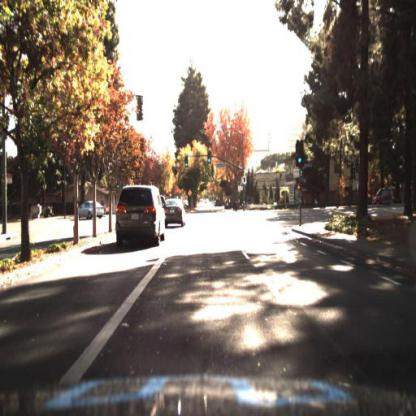car: (114, 179, 167, 246), (164, 199, 188, 231), (72, 199, 105, 222), (164, 196, 186, 225), (78, 201, 105, 224), (374, 188, 397, 206)
trafficLight: (297, 145, 305, 167), (242, 173, 249, 188)
trafficLight-Green: (297, 141, 305, 168), (206, 146, 214, 167), (243, 177, 251, 193), (184, 154, 189, 169), (208, 152, 213, 165)
trafficLight-GreenLeft: (185, 159, 190, 171)
